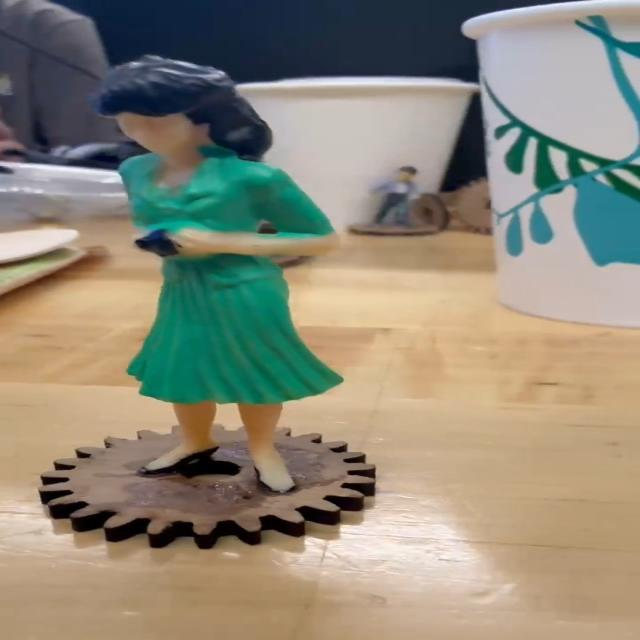Authorized: (49, 39, 402, 532)
